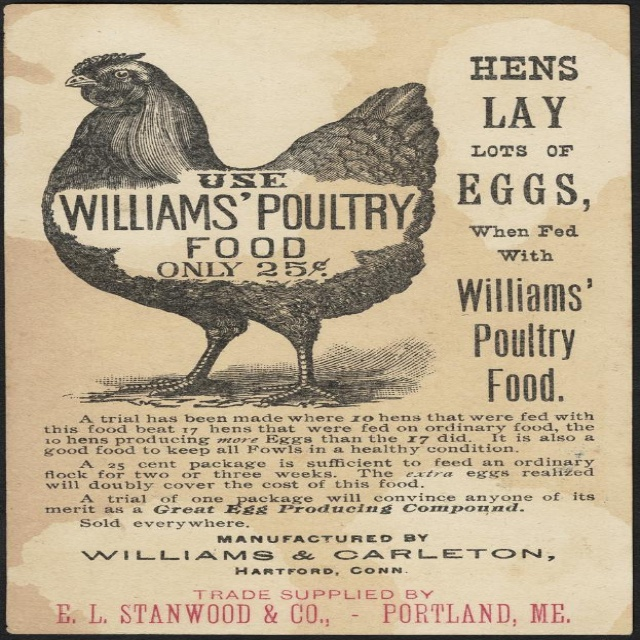Chicken: (48, 56, 446, 373)
